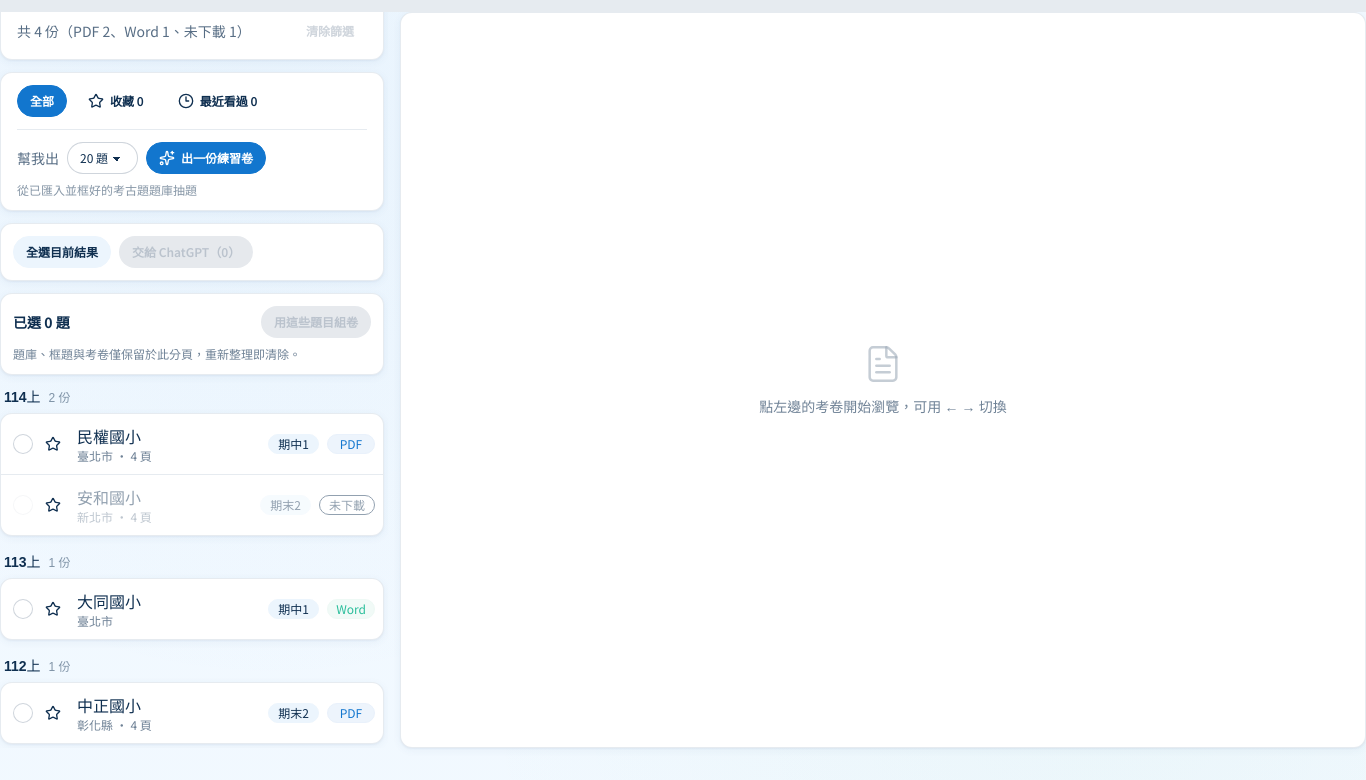
Test: PastExamsPage › offers a download instead of a preview for Word files
(page scrolled)
Step 1. Click the button "大同國小 臺北市 期中1 Word" → click(109, 601), box [69, 579, 383, 639]
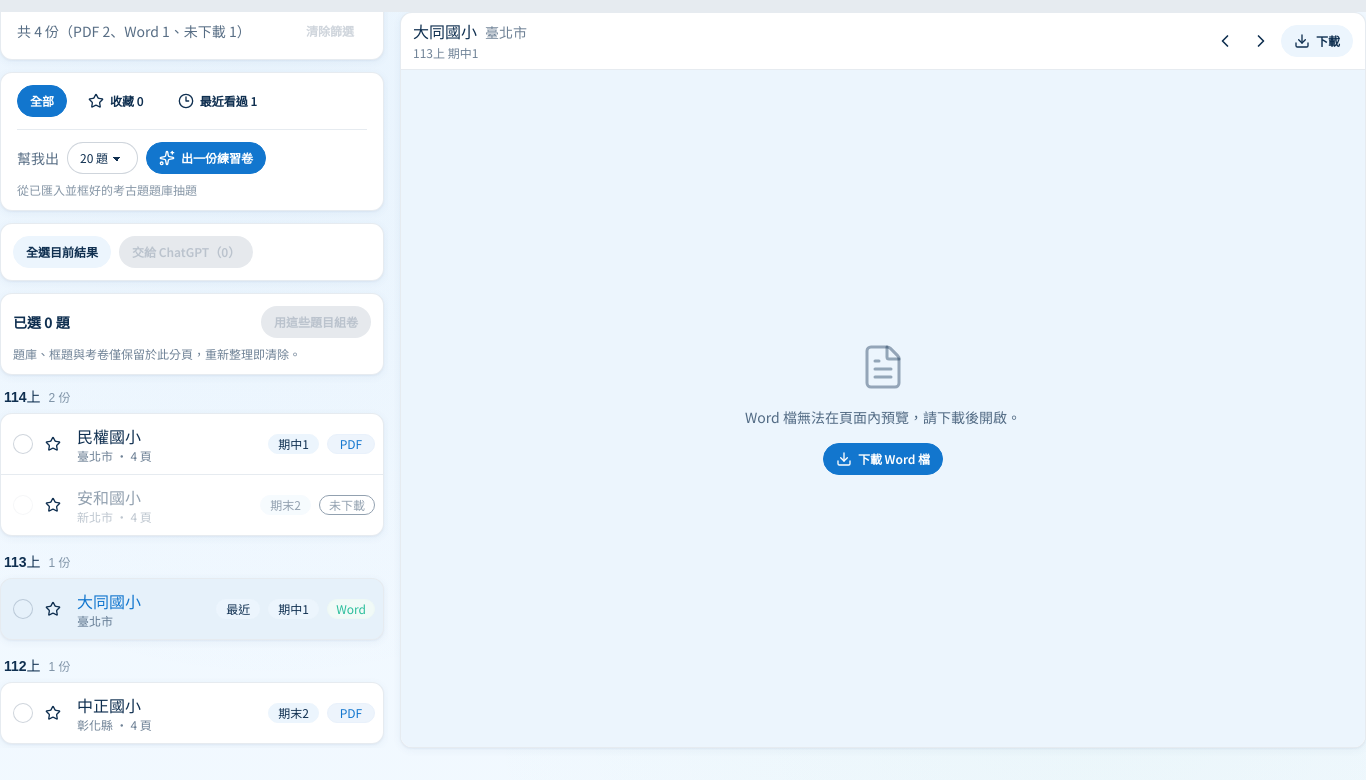
expect the text "Word 檔無法在頁面內預覽" is shown: met, box [745, 406, 1021, 426]
